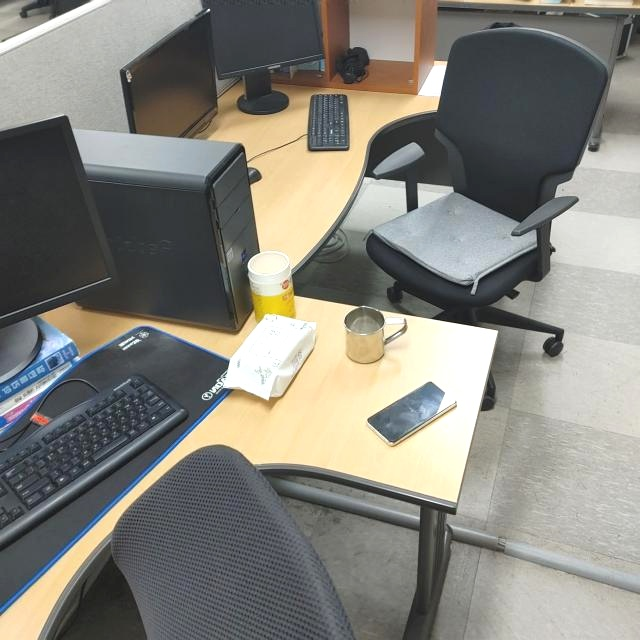cup: (342, 304, 410, 364)
phone: (365, 380, 459, 446)
